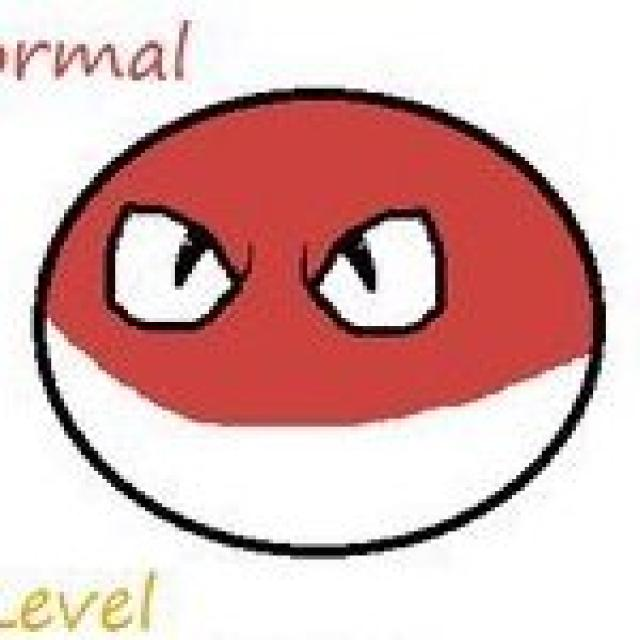Voltorb: (32, 92, 609, 561)
